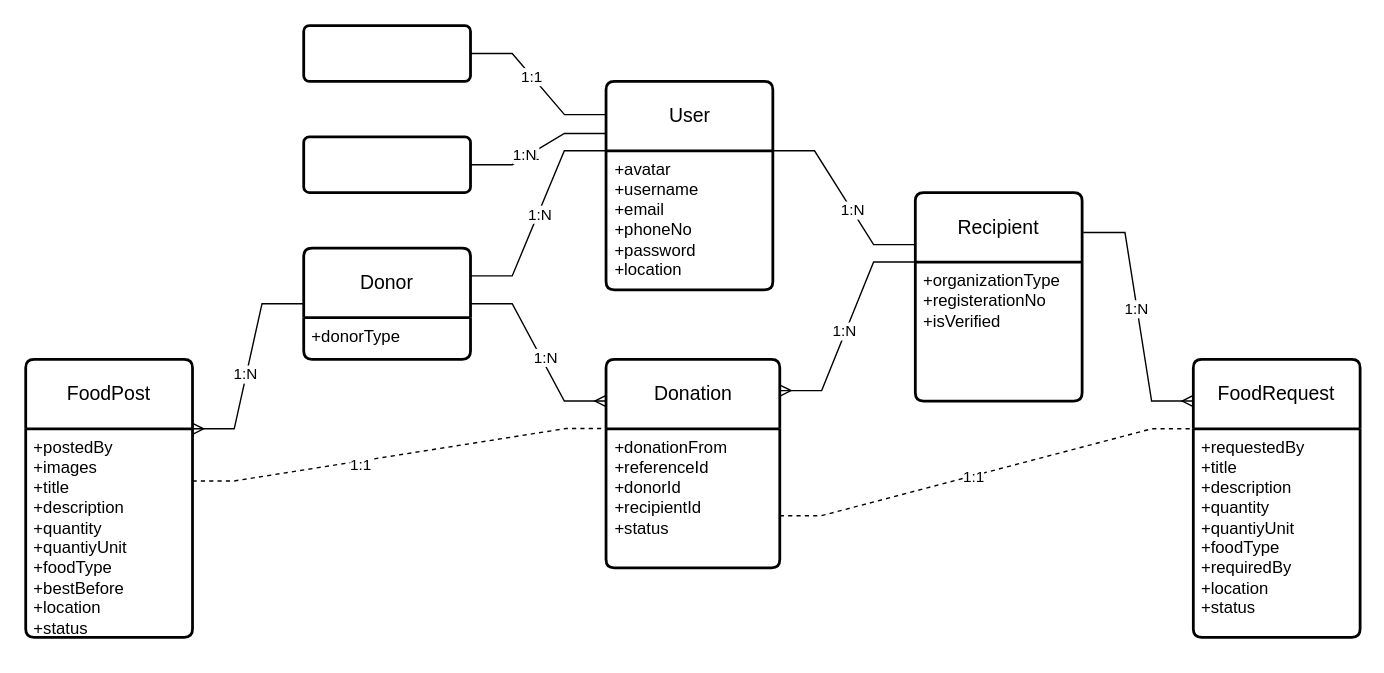
Image size: 1384x673. Some labels were removed from this diagram. The shapes that lost their labels are listed below. From the top down, each one's centre as x and y in pixels, then its label:
At (x=386, y=53): "Admin".
At (x=386, y=164): "CityAdmin".
